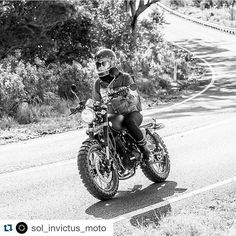helmet: (91, 50, 116, 77)
